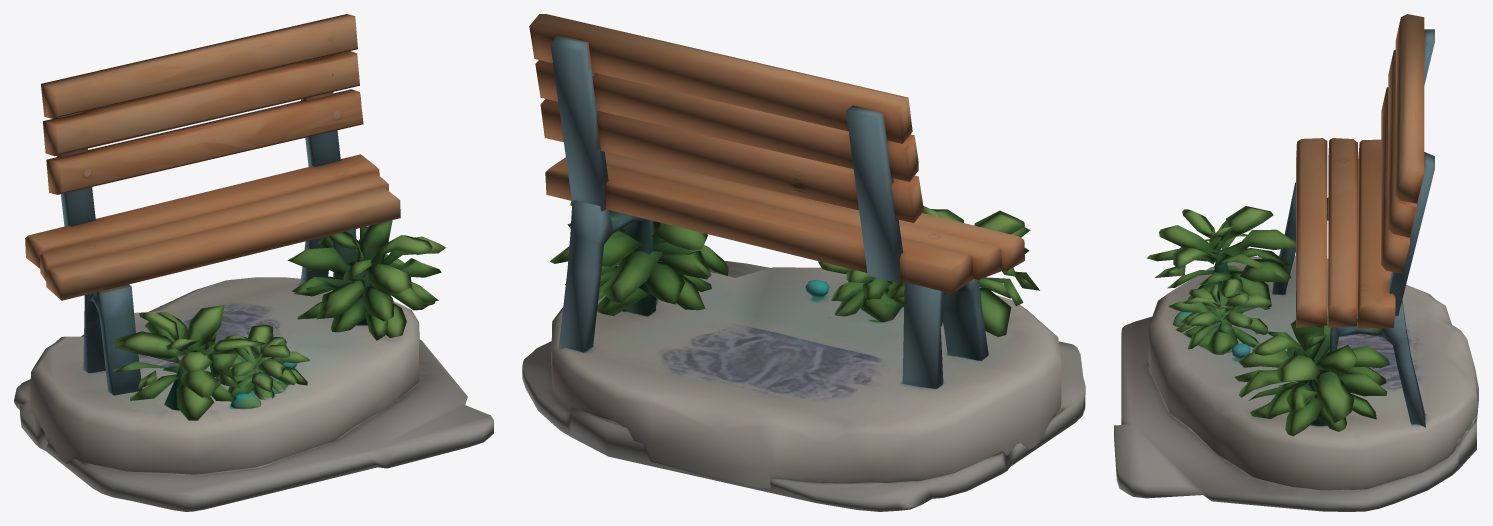
File: park-bench-planter.glb
3 views of the same model, side by side, from view 1: azimuth 30°, elevation 25°; view 2: azimuth 150°, elevation 25°; view 3: azimuth 270°, elevation 25° (orthographic). The views are drawn at different scales.
Visible parts, largest first — view 1: tripo_node_f9bf2077-0f37-4792-b5c0-8d702ca5cbf7; view 2: tripo_node_f9bf2077-0f37-4792-b5c0-8d702ca5cbf7; view 3: tripo_node_f9bf2077-0f37-4792-b5c0-8d702ca5cbf7.
Part boxes in pixels (x1=…): tripo_node_f9bf2077-0f37-4792-b5c0-8d702ca5cbf7: x1=14, y1=14, x2=493, y2=511; tripo_node_f9bf2077-0f37-4792-b5c0-8d702ca5cbf7: x1=522, y1=14, x2=1085, y2=511; tripo_node_f9bf2077-0f37-4792-b5c0-8d702ca5cbf7: x1=1114, y1=14, x2=1478, y2=511.
Size of the model in its own units: 0.998 by 0.791 by 0.7949.
Materials: 1 (1 with a texture image).
